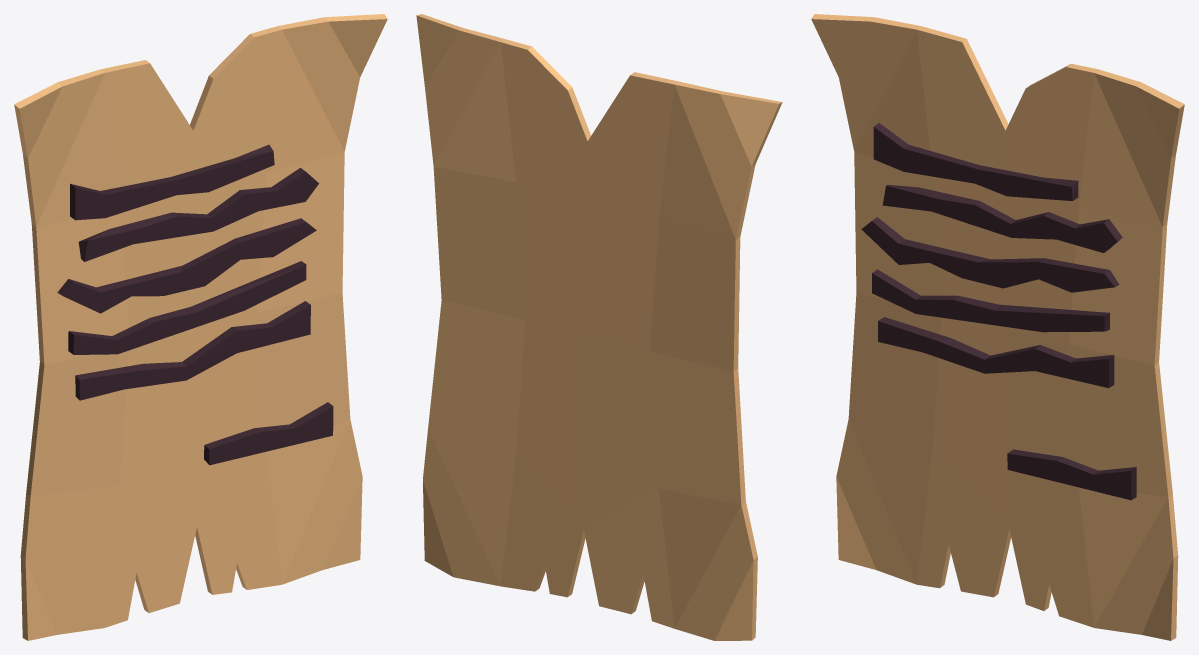
Rendered from QuestNotice 03.fbx.
3 renders of one model, left to right at view 1: azimuth 30°, elevation 25°; view 2: azimuth 150°, elevation 25°; view 3: azimuth 330°, elevation 25°, orthographic. The views are drawn at different scales.
Visible parts, largest first — view 1: QuestNotice 03; view 2: QuestNotice 03; view 3: QuestNotice 03.
Part boxes in pixels (x1=…): QuestNotice 03: x1=14, y1=14, x2=387, y2=640; QuestNotice 03: x1=416, y1=14, x2=782, y2=640; QuestNotice 03: x1=811, y1=14, x2=1184, y2=640.
Bounding box in the file's own units: 35 × 50.16 × 3.03.
